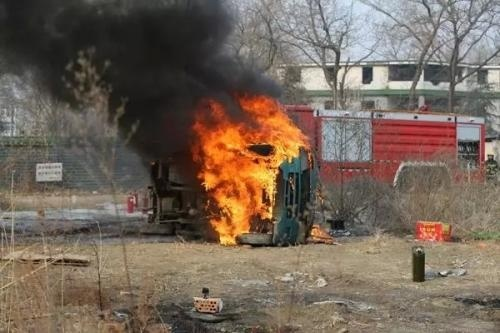fire: (190, 92, 311, 246), (308, 222, 334, 243)
